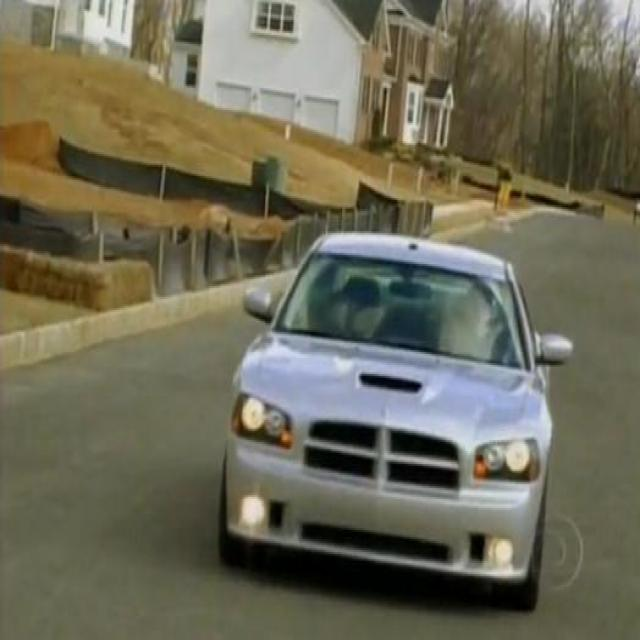car: (215, 230, 573, 613)
